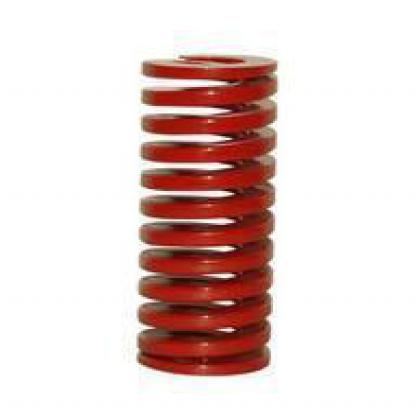FOD: (134, 47, 282, 378)
